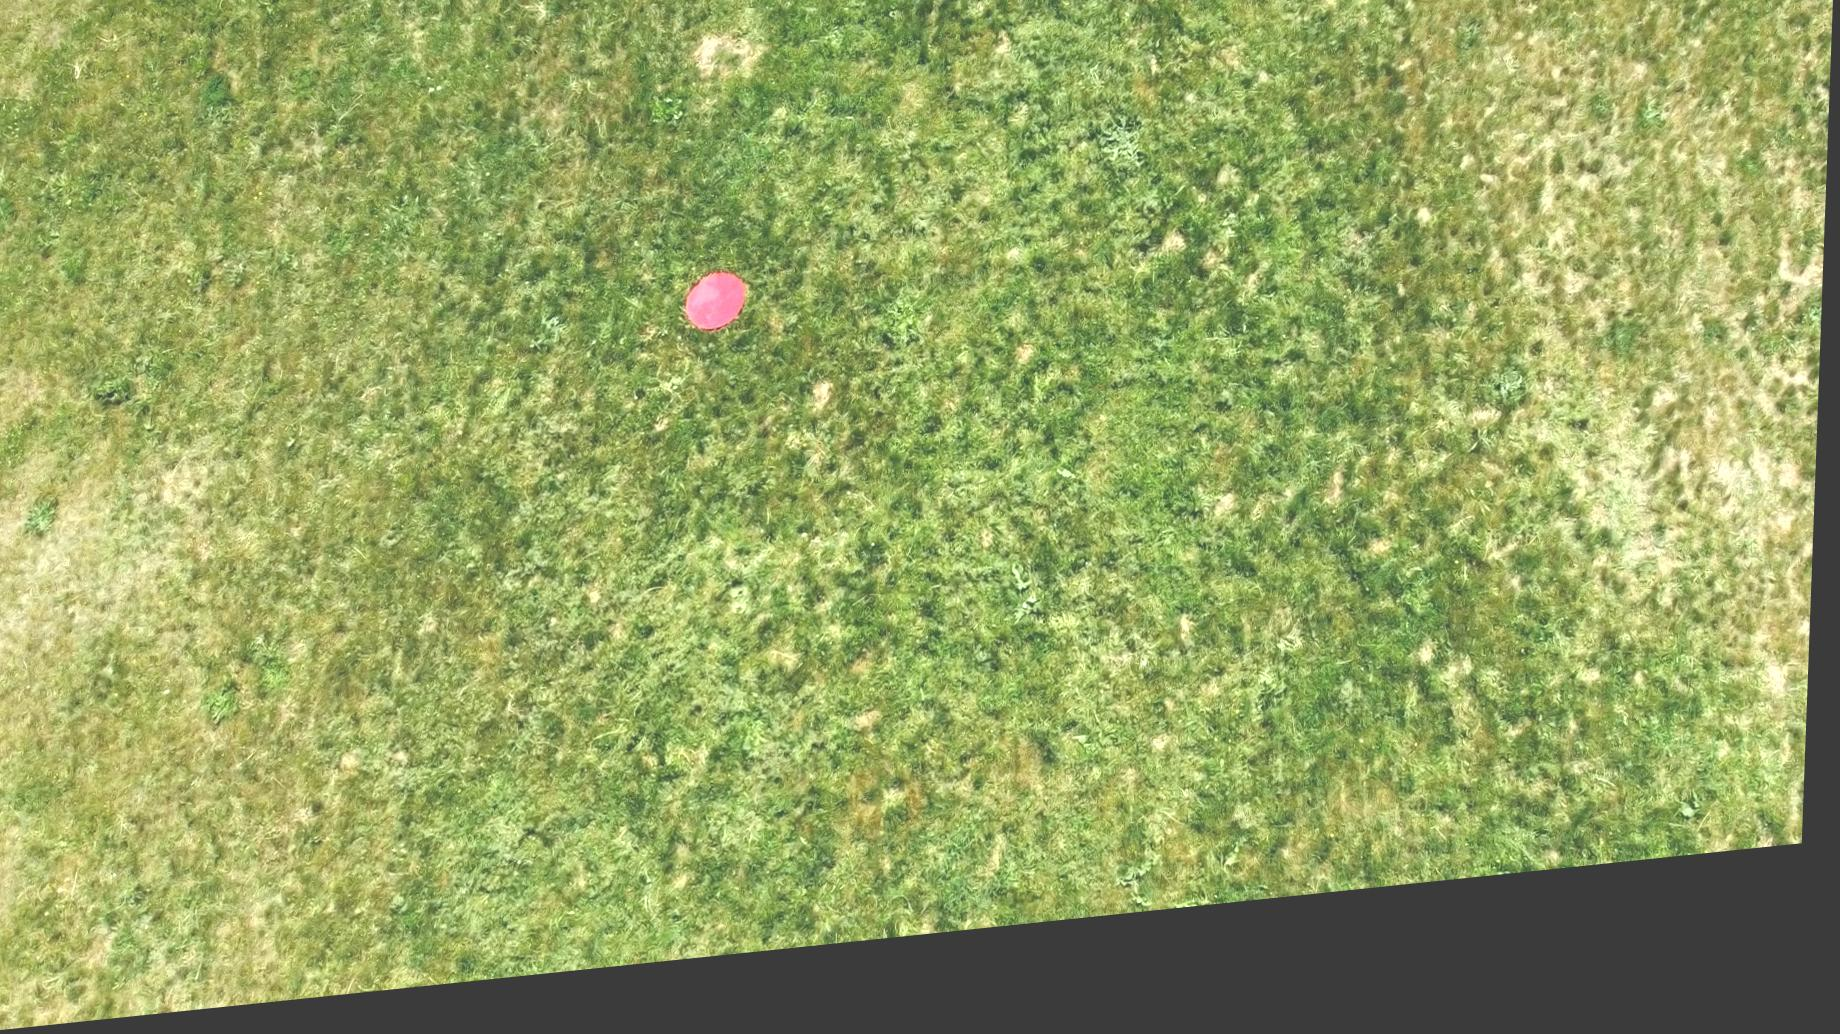Red: (685, 284, 749, 350)
